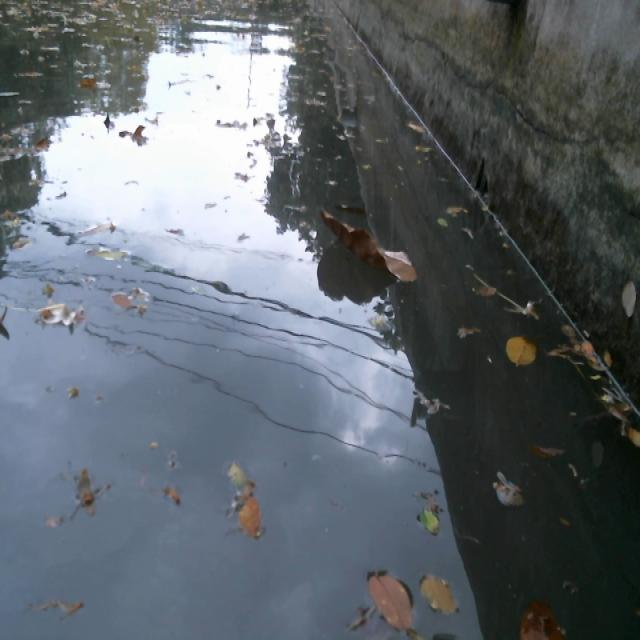Big-leaf: (316, 201, 424, 287)
Small-leaf: (364, 567, 418, 634), (412, 565, 465, 619), (515, 594, 569, 640), (31, 301, 88, 330), (21, 592, 92, 615), (232, 489, 266, 535), (503, 330, 542, 370), (72, 465, 102, 514), (486, 475, 526, 509), (85, 238, 129, 263), (416, 501, 444, 538), (528, 437, 565, 463), (223, 455, 251, 488), (75, 216, 126, 233), (118, 120, 151, 143), (105, 287, 137, 309), (455, 322, 489, 342), (158, 482, 185, 505), (405, 116, 428, 138), (32, 132, 55, 154), (472, 282, 500, 299), (75, 71, 98, 90), (625, 422, 640, 448), (448, 200, 468, 218), (579, 339, 594, 358), (434, 211, 450, 228), (101, 111, 115, 129)
